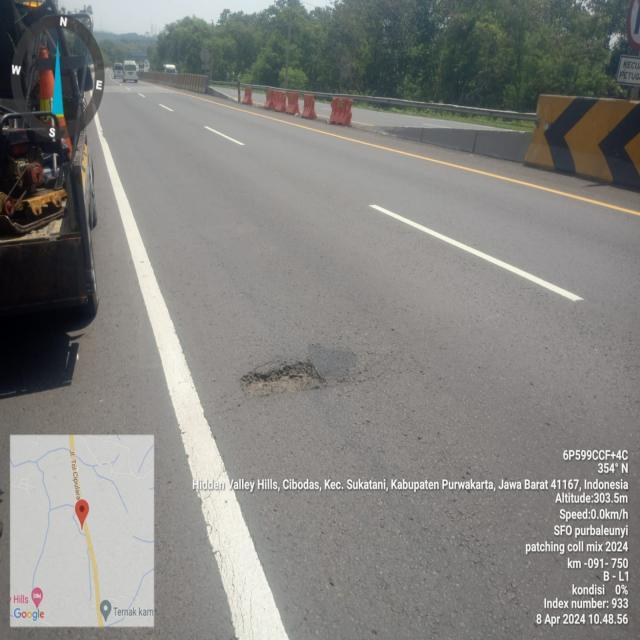Buraco: (236, 358, 334, 399)
